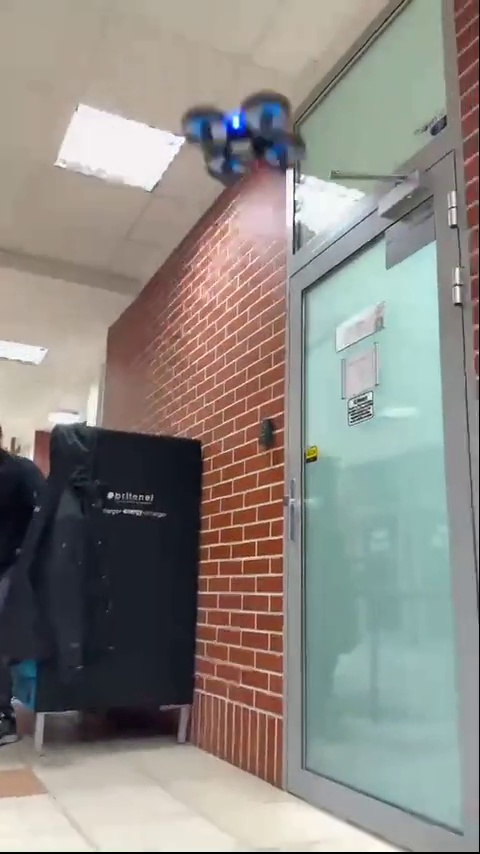drone: (183, 100, 304, 184)
